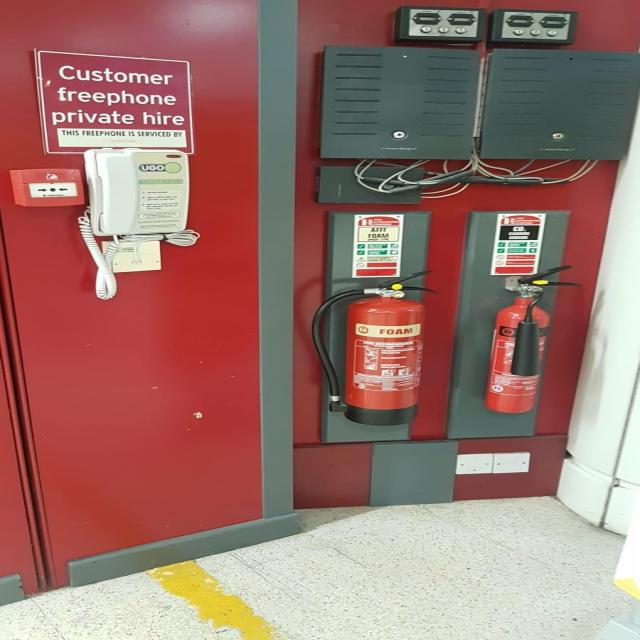fire_extinguisher: (304, 266, 443, 428), (476, 263, 591, 416)
